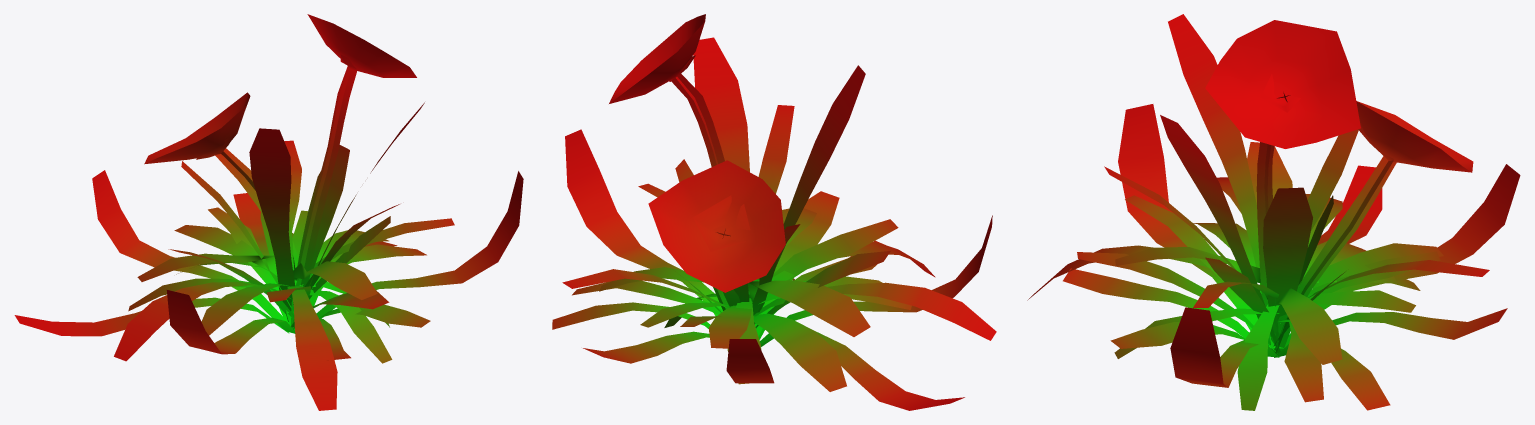
The model's file is Var2_LOD1.fbx.
3 views of the same model, side by side, from view 1: azimuth 30°, elevation 25°; view 2: azimuth 150°, elevation 25°; view 3: azimuth 270°, elevation 25° (orthographic). The views are drawn at different scales.
Parts seen in each view (by area): view 1: _8677_Var2_LOD1; view 2: _8677_Var2_LOD1; view 3: _8677_Var2_LOD1.
Boxes of the visible parts, box(x1,y1,x2,y2) form: _8677_Var2_LOD1: box(14, 14, 523, 410); _8677_Var2_LOD1: box(552, 14, 996, 410); _8677_Var2_LOD1: box(1027, 14, 1520, 410).
Bounding box in the file's own units: 45.23 × 30.19 × 37.12.
